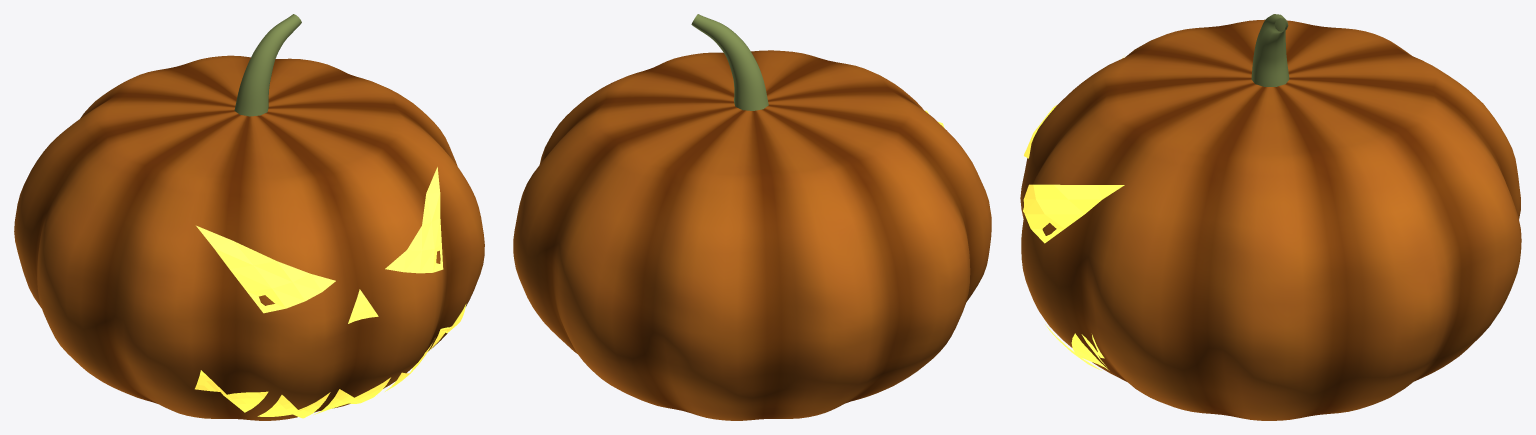
File: pumpkin.glb
3 views of the same model, side by side, from view 1: azimuth 30°, elevation 25°; view 2: azimuth 150°, elevation 25°; view 3: azimuth 270°, elevation 25° (orthographic). The views are drawn at different scales.
Visible parts, largest first — view 1: Pumpkin; view 2: Pumpkin; view 3: Pumpkin.
Part boxes in pixels (x1=…): Pumpkin: x1=14, y1=14, x2=484, y2=420; Pumpkin: x1=513, y1=14, x2=991, y2=420; Pumpkin: x1=1020, y1=14, x2=1521, y2=420.
Bounding box in the file's own units: 2.36 × 1.91 × 2.29.
